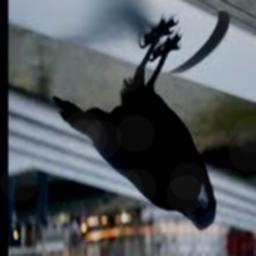Crow: (53, 17, 215, 229)
